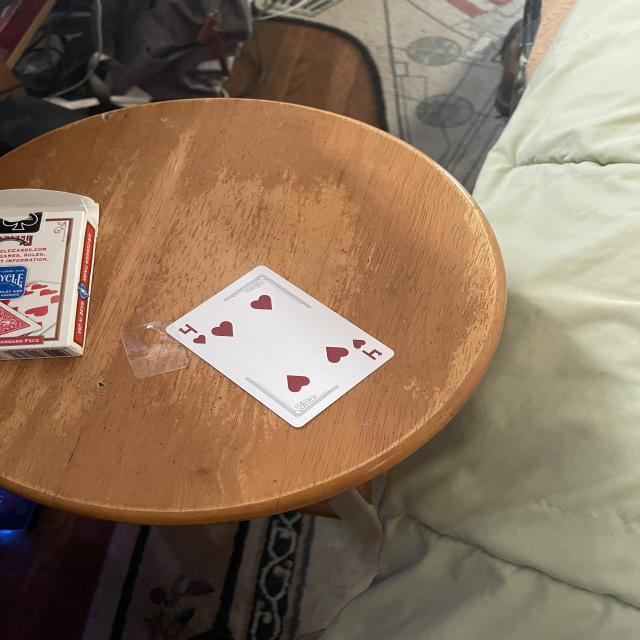4 of hearts: (169, 266, 392, 425)
